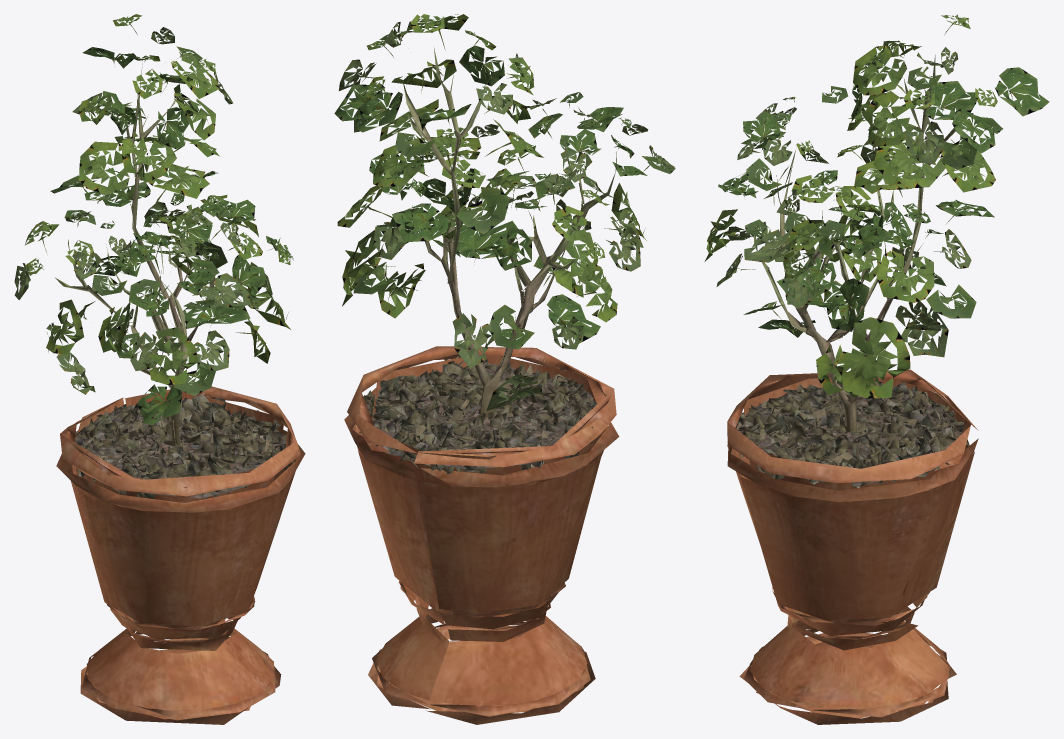
The model's file is plante1.glb.
The picture shows the model from 3 angles, left to right: view 1: azimuth 30°, elevation 25°; view 2: azimuth 150°, elevation 25°; view 3: azimuth 270°, elevation 25°; orthographic projection. The views are drawn at different scales.
Parts seen in each view (by area): view 1: potted_plant_01_pot, potted_plant_01_leaves, potted_plant_01_pebbles, potted_plant_01_stem; view 2: potted_plant_01_pot, potted_plant_01_leaves, potted_plant_01_pebbles, potted_plant_01_stem; view 3: potted_plant_01_pot, potted_plant_01_leaves, potted_plant_01_pebbles, potted_plant_01_stem.
Boxes of the visible parts, box(x1,y1,x2,y2) form: potted_plant_01_pot: box(56, 383, 305, 724); potted_plant_01_leaves: box(14, 14, 293, 425); potted_plant_01_pebbles: box(74, 393, 294, 500); potted_plant_01_stem: box(55, 60, 216, 445); potted_plant_01_pot: box(344, 346, 619, 724); potted_plant_01_leaves: box(334, 14, 675, 410); potted_plant_01_pebbles: box(359, 356, 596, 473); potted_plant_01_stem: box(402, 46, 616, 417); potted_plant_01_pot: box(727, 369, 978, 724); potted_plant_01_leaves: box(704, 14, 1049, 398); potted_plant_01_pebbles: box(736, 380, 969, 488); potted_plant_01_stem: box(754, 55, 967, 431).
Bounding box in the file's own units: 0.587 × 1.33 × 0.6305.
2 materials, 2 textured.
